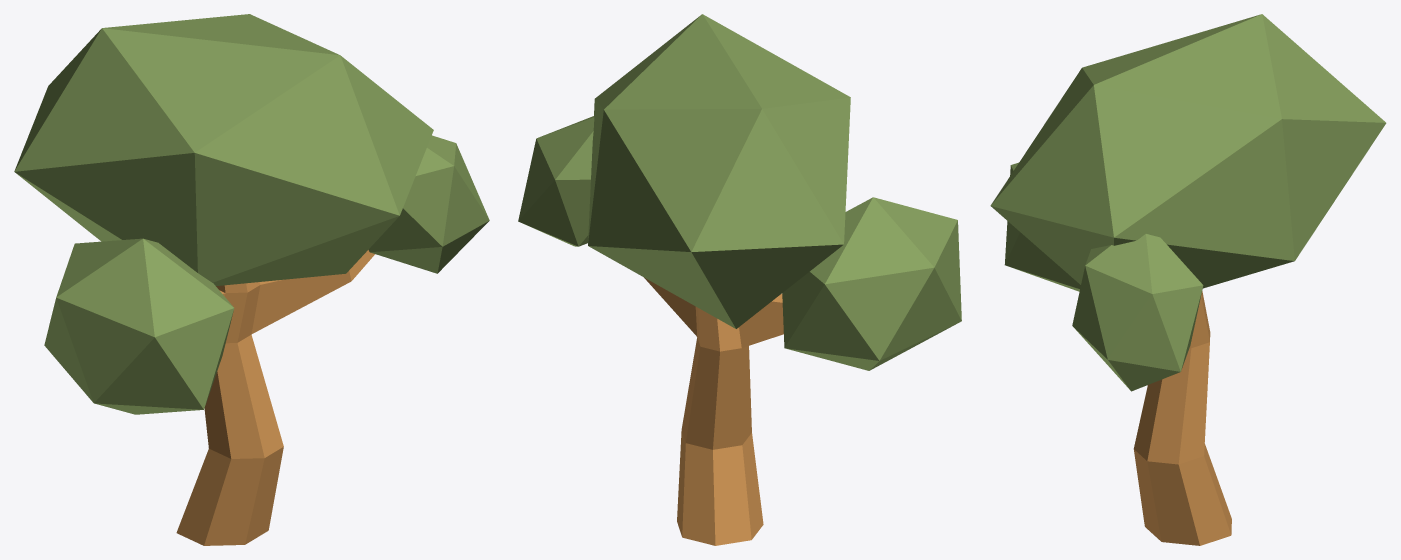
Rendered from pohon 2.fbx.
The picture shows the model from 3 angles, left to right: view 1: azimuth 30°, elevation 25°; view 2: azimuth 150°, elevation 25°; view 3: azimuth 270°, elevation 25°; orthographic projection. The views are drawn at different scales.
Parts seen in each view (by area): view 1: Circle.003; view 2: Circle.003; view 3: Circle.003.
Boxes of the visible parts, <box> form: Circle.003: <box>14,14,489,545</box>; Circle.003: <box>518,14,961,545</box>; Circle.003: <box>990,14,1386,545</box>.
Bounding box in the file's own units: 498 × 555 × 420.
